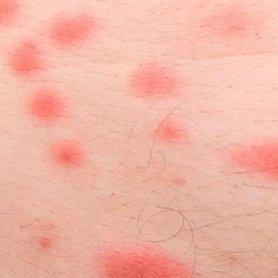Fleas: (101, 247, 186, 277), (46, 9, 100, 50), (199, 7, 262, 42), (3, 37, 48, 81), (230, 138, 277, 179), (128, 61, 177, 97), (28, 90, 64, 120), (50, 140, 86, 167), (30, 225, 61, 252), (157, 116, 185, 145)
